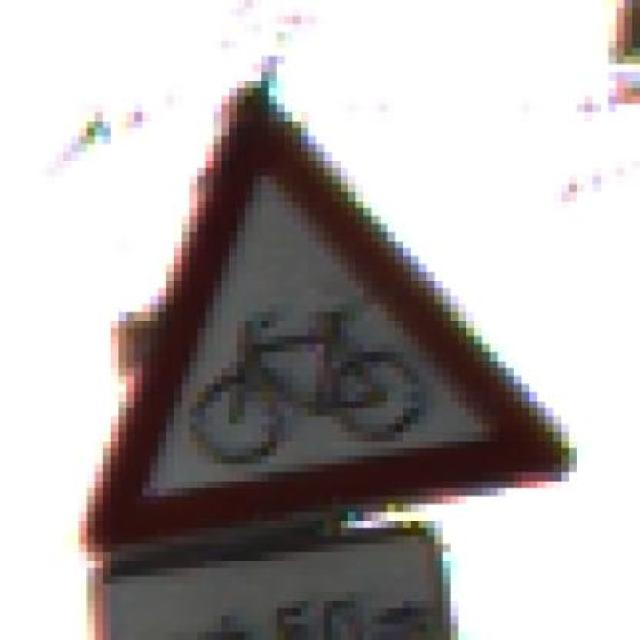CYCLE ROUTE AHEAD WARNING: (48, 49, 584, 576)
